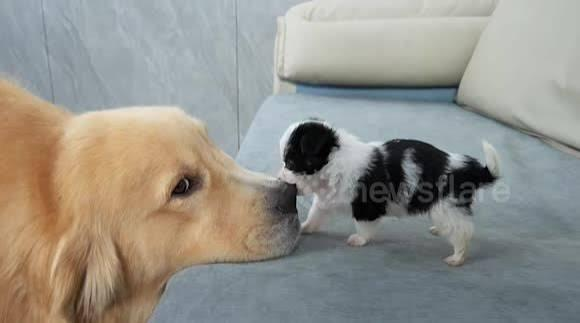adult_dog: (0, 70, 302, 322)
puppy-dog: (269, 116, 505, 268)
